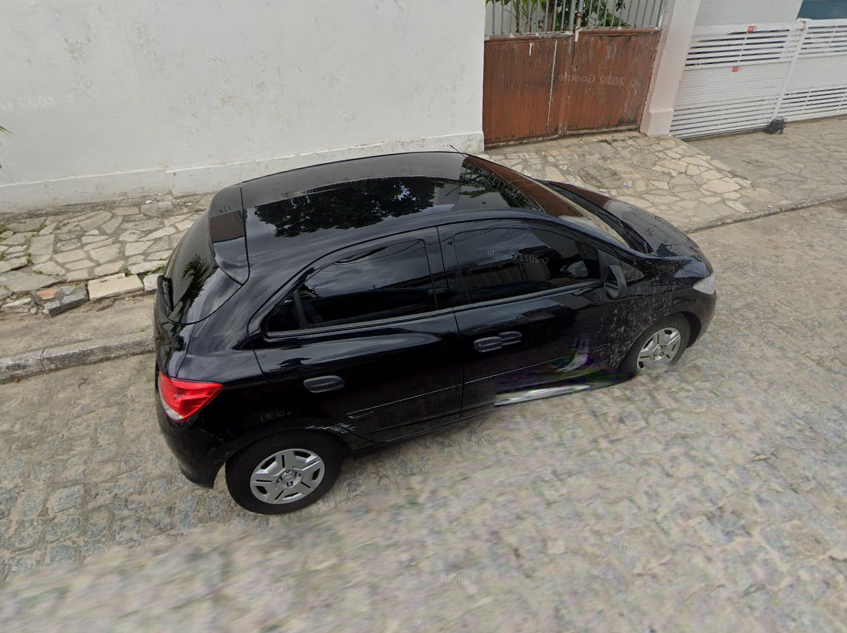car: (145, 146, 720, 518)
